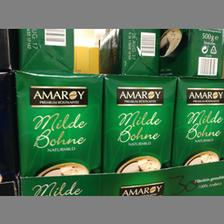Kaffee: (14, 70, 102, 174), (100, 72, 176, 172), (170, 78, 222, 166), (96, 29, 158, 73)
